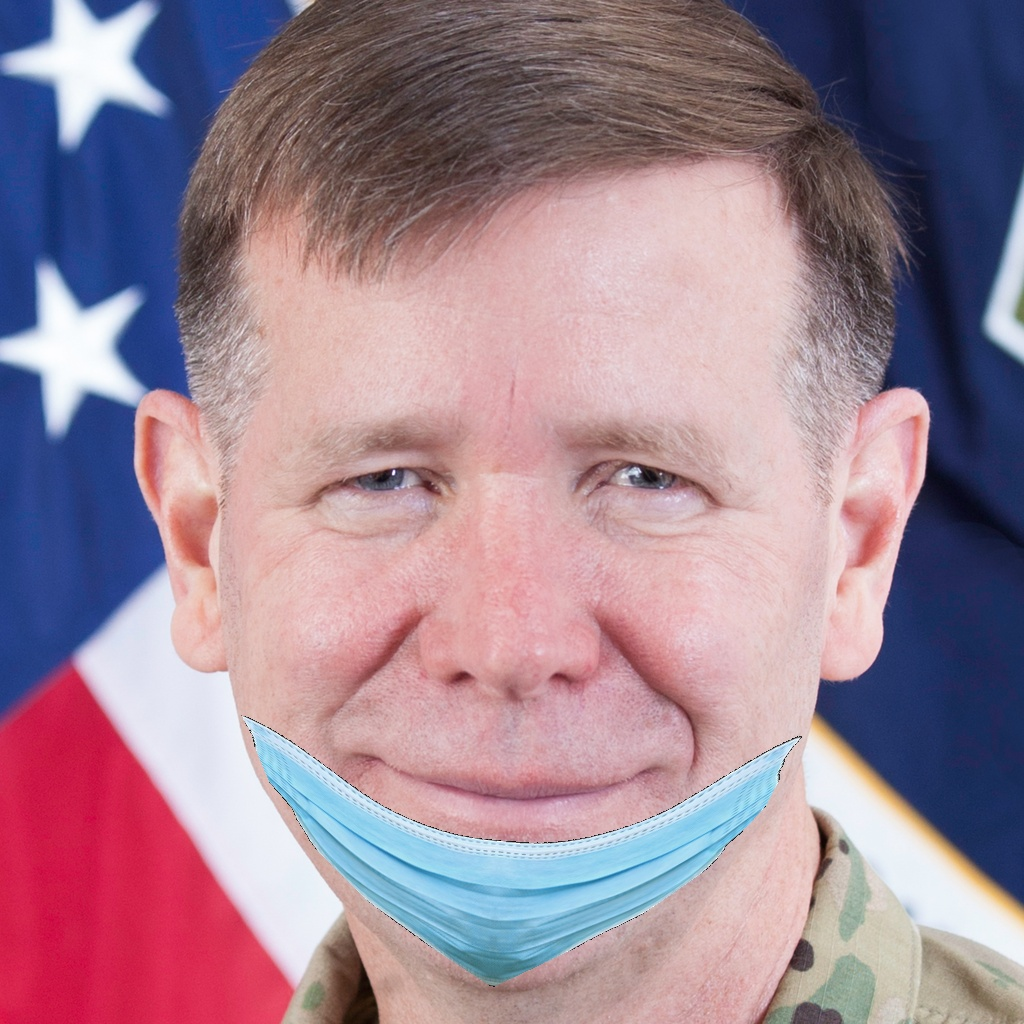Mask_Chin: (224, 400, 814, 986)
